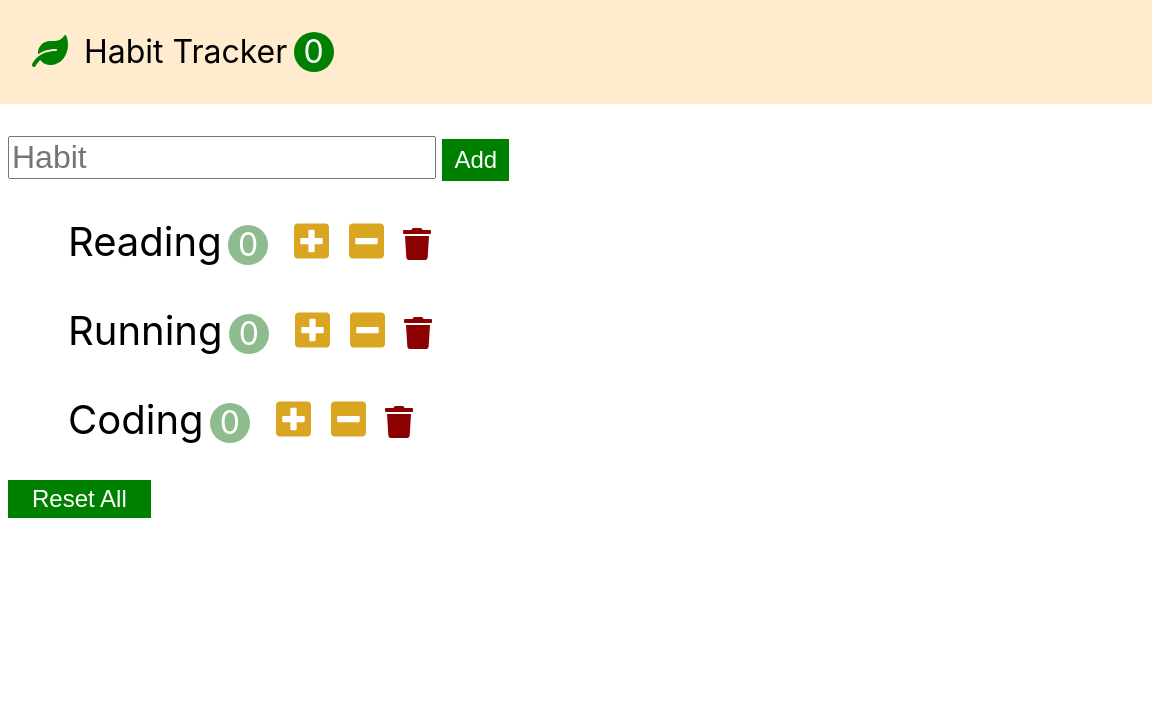
Scenario: Habit Tracker › decreases count
The image size is (1152, 720).
What coordinates should you click on to do the following:
click the button titled "increase" in the row of "Reading"
I would click on:
 (312, 243)
Its box is [288,219,335,266].
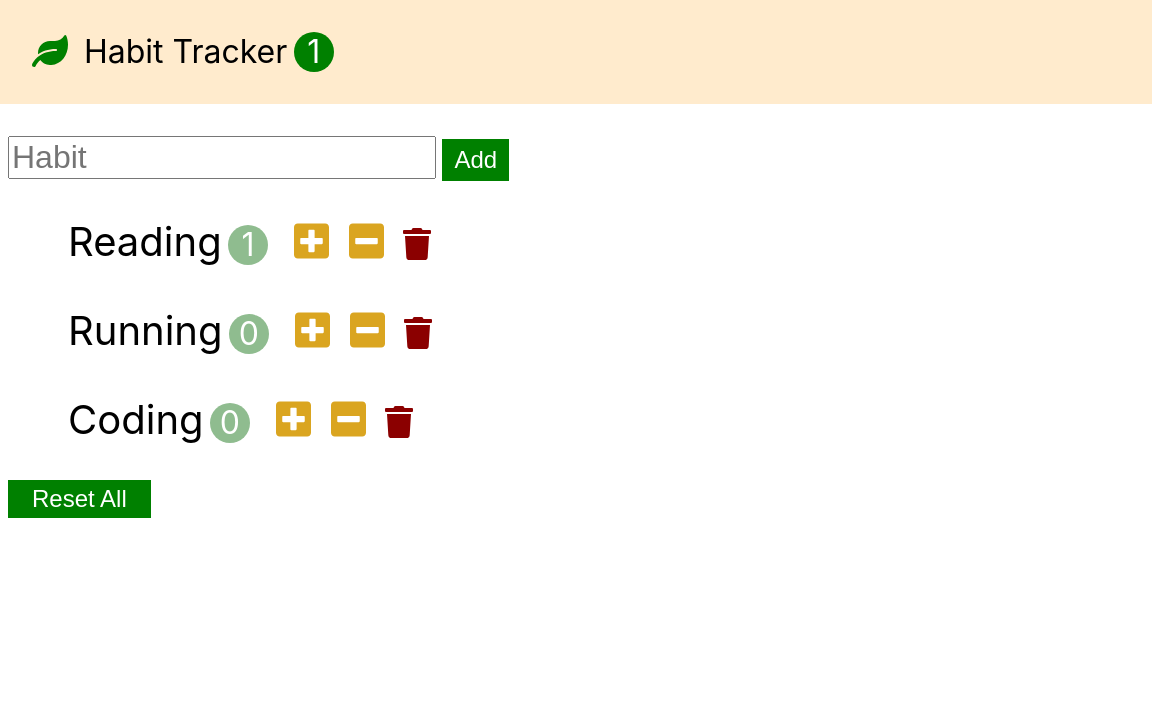
What coordinates should you click on to do the following:
click the button titled "decrease" in the row of "Reading"
I would click on:
 (367, 243)
Its box is [343,219,390,266].
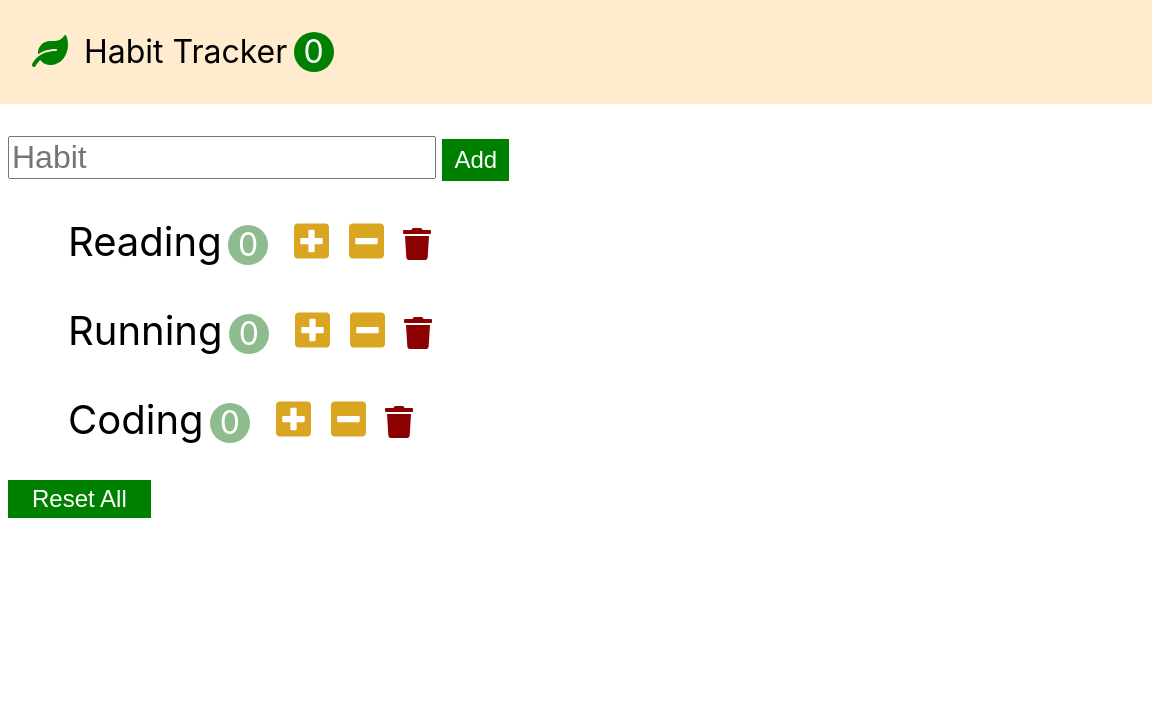
Expected: the text with test id "habit-count" next to "Reading" reads "0", [228,225,268,265]
